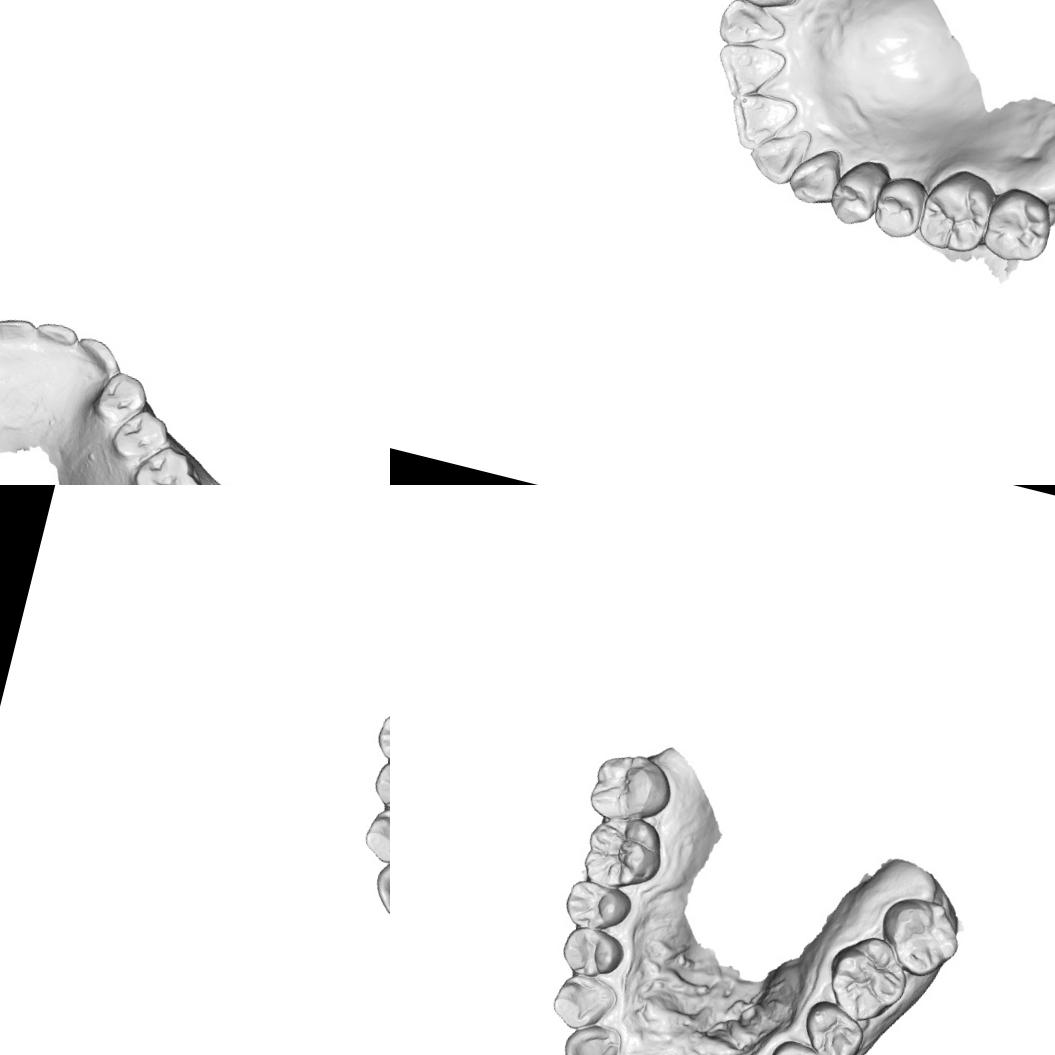canine: (546, 968, 621, 1038), (783, 140, 845, 211), (68, 334, 126, 394), (358, 801, 390, 871), (732, 0, 806, 15)
incisor: (721, 85, 800, 160), (708, 36, 790, 108), (742, 118, 812, 190), (714, 0, 791, 55), (555, 1016, 625, 1055), (28, 318, 81, 368), (0, 307, 37, 377), (367, 850, 390, 922)
molar: (818, 927, 915, 1030), (871, 888, 968, 984), (576, 806, 670, 898), (912, 162, 1000, 258), (584, 744, 678, 832), (978, 181, 1055, 268), (121, 438, 213, 485)
premolar: (824, 152, 890, 230), (560, 875, 636, 938), (106, 402, 175, 470), (868, 170, 931, 244), (556, 921, 628, 983), (795, 995, 869, 1055), (88, 366, 152, 432), (762, 1035, 835, 1055), (367, 755, 390, 817), (372, 708, 390, 772)
